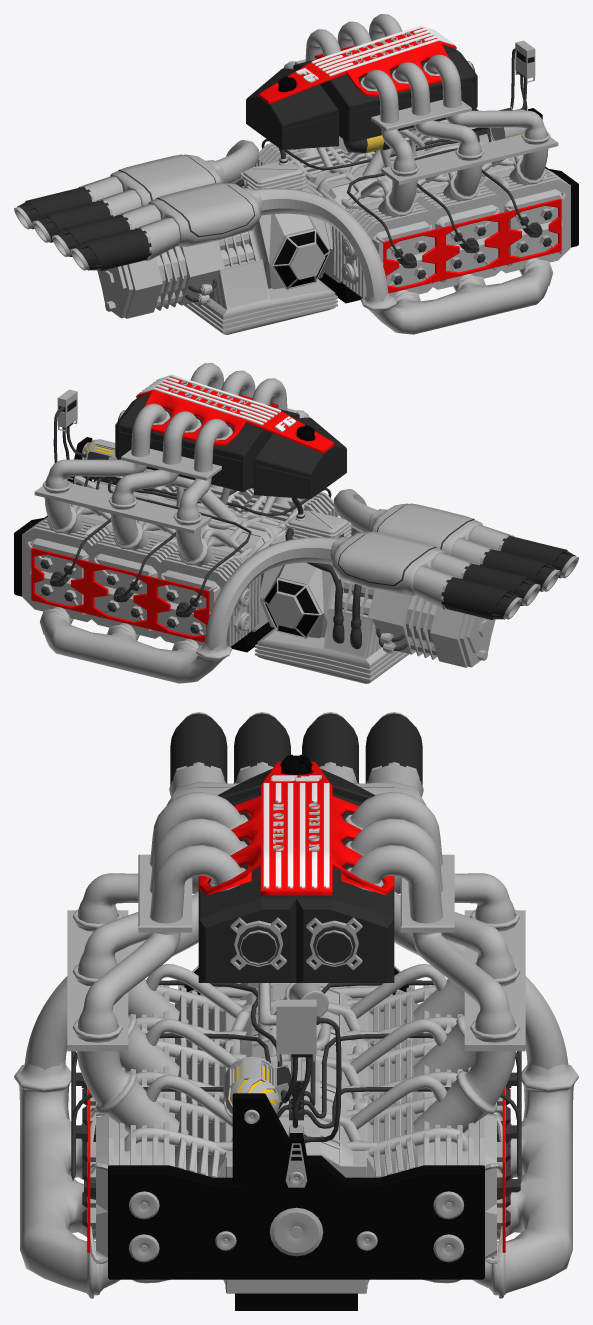
File: eng-f6-30-t.glb
The picture shows the model from 3 angles, top to bottom: view 1: azimuth 30°, elevation 25°; view 2: azimuth 150°, elevation 25°; view 3: azimuth 270°, elevation 25°; orthographic projection. The views are drawn at different scales.
Parts seen in each view (by area): view 1: Object_15, Object_21, Object_14, Object_13, Object_10, Object_11, Object_12, Object_18, Object_8, Object_4, Object_22, Object_9 (+2 smaller); view 2: Object_15, Object_21, Object_11, Object_13, Object_10, Object_14, Object_18, Object_8, Object_4, Object_12, Object_22, Object_9 (+2 smaller); view 3: Object_15, Object_7, Object_14, Object_21, Object_12, Object_10, Object_11, Object_18, Object_4, Object_13, Object_22, Object_17 (+4 smaller).
Part boxes in pixels (x1,y1,x2,y2): Object_15: (14, 14, 570, 301); Object_21: (17, 44, 477, 270); Object_14: (52, 61, 552, 334); Object_13: (53, 40, 535, 334); Object_10: (97, 122, 567, 328); Object_11: (105, 119, 556, 333); Object_12: (240, 132, 552, 298); Object_18: (118, 48, 552, 301); Object_8: (383, 198, 561, 293); Object_4: (258, 28, 456, 104); Object_22: (311, 25, 454, 76); Object_9: (274, 76, 361, 303); Object_15: (22, 363, 540, 683); Object_21: (115, 393, 575, 619); Object_11: (40, 476, 487, 683); Object_13: (22, 389, 559, 679); Object_10: (25, 457, 495, 678); Object_14: (73, 410, 578, 648); Object_18: (40, 406, 474, 650); Object_8: (31, 547, 209, 642); Object_4: (136, 377, 334, 453); Object_12: (53, 468, 351, 647); Object_22: (138, 374, 281, 425); Object_9: (231, 425, 318, 652); Object_15: (24, 712, 578, 1298); Object_7: (108, 1093, 484, 1279); Object_14: (14, 712, 515, 1298); Object_21: (170, 713, 422, 982); Object_12: (72, 909, 520, 1295); Object_10: (67, 765, 525, 1293); Object_11: (128, 964, 520, 1293); Object_18: (71, 787, 521, 1227); Object_4: (198, 761, 394, 895); Object_13: (223, 965, 484, 1279); Object_22: (263, 783, 329, 888); Object_17: (124, 1040, 468, 1156).
Bounding box in the file's own units: 15.85 × 7.29 × 9.23.
